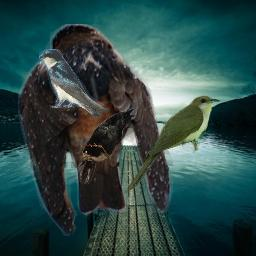Crow: (77, 107, 137, 184)
Cuckoo: (127, 95, 221, 192)
Swallow: (18, 24, 173, 236), (39, 49, 110, 118)
